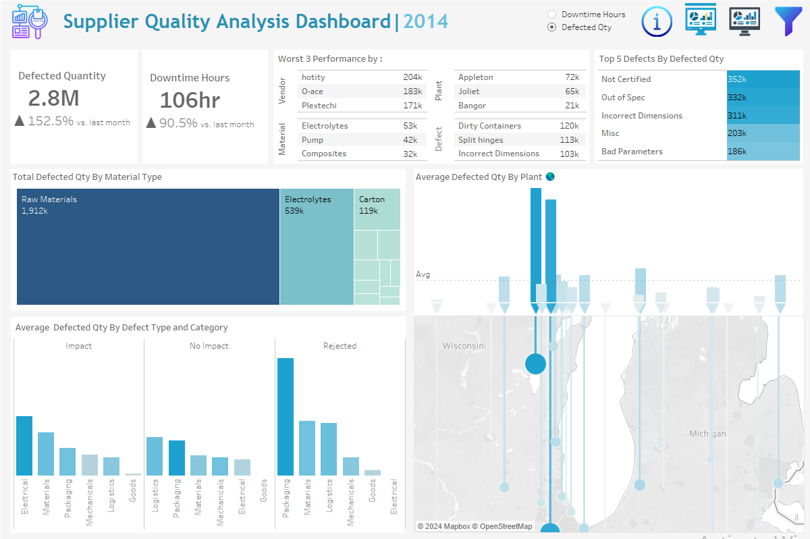

What the dashboard file says about the page in this screenshot:
{"tool":"tableau","page":{"name":"Dashboard 2 (3)","canvas":[1200,800],"ordinal":1},"visuals":[{"type":"image","param":"Image/data-analysis_3052407.png","box":[0,4,86,54]},{"type":"text","box":[86,4,714,54]},{"type":"parameter","param":"[Parameters].[Parameter 5]","box":[800,4,400,54]},{"type":"dashboard-object","box":[940,4,65,54]},{"type":"dashboard-object","box":[1005,4,65,54]},{"type":"dashboard-object","box":[1070,4,65,54]},{"type":"blank","box":[1079,4,46,4]},{"type":"dashboard-object","box":[1135,4,65,54]},{"type":"blank","box":[943,10,246,51]},{"type":"blank","box":[0,58,1200,156]},{"type":"text","box":[943,61,246,36]},{"type":"text","box":[15,73,381,26]},{"type":"text","box":[404,73,392,26]},{"type":"text","box":[804,73,385,26]},{"type":"parameter","param":"[Parameters].[Parameter 1]","box":[943,97,246,52]},{"type":"worksheet","title":"Vendors Downtime Groups (2)","mark":"Automatic","rows":["Vendor"],"cols":["Calculation_1127307283099979777","Calculation_1127307283099979777"],"box":[15,99,381,143]},{"type":"worksheet","title":"Defect Type share","mark":"Pie","box":[404,99,392,143]},{"type":"worksheet","title":"worst 5 category downtime","mark":"Automatic","rows":["Sub Category"],"cols":["Calculation_1127307283099979777"],"box":[804,99,385,128]},{"type":"filter","title":"Defect Type share","param":"[federated.1yez3no1clppl218mfue11y89chz].[mn:dDate:ok]","box":[943,149,246,52]},{"type":"parameter","param":"[Parameters].[Parameter 6]","box":[943,201,246,52]},{"type":"text","box":[0,214,1200,427]},{"type":"text","box":[15,252,580,18]},{"type":"text","box":[606,252,581,18]},{"type":"blank","box":[943,253,246,32]},{"type":"worksheet","title":"defected qty trend (2)","mark":"Text","box":[15,270,580,32]},{"type":"worksheet","title":"Sheet 21","mark":"Circle","box":[606,270,581,187]},{"type":"text","box":[943,285,246,29]},{"type":"worksheet","title":"defected qty trend","mark":"Automatic","rows":["Calculation_807270300544372736"],"cols":["Calculation_707065143283163139"],"box":[15,302,580,157]},{"type":"filter","title":"defected qty trend","param":"[federated.1yez3no1clppl218mfue11y89chz].[none:Region:nk]","box":[943,314,246,52]},{"type":"filter","title":"defected qty trend","param":"[federated.1yez3no1clppl218mfue11y89chz].[none:Plant:nk]","box":[943,366,246,52]},{"type":"blank","box":[943,418,246,34]},{"type":"text","box":[943,452,246,29]},{"type":"text","box":[19,469,573,26]},{"type":"text","box":[608,471,577,26]},{"type":"filter","title":"defected qty trend","param":"[federated.1yez3no1clppl218mfue11y89chz].[none:Material Type:nk]","box":[943,481,246,52]},{"type":"worksheet","title":"Sankey Diagram","box":[19,495,573,290]},{"type":"worksheet","title":"Jitter plot","mark":"Circle","rows":["Calculation_1127307283099979777"],"cols":["Sub Category","Calculation_329044314083266561"],"box":[608,497,577,288]},{"type":"filter","title":"defected qty trend","param":"[federated.1yez3no1clppl218mfue11y89chz].[none:Sub Category:nk]","box":[943,533,246,52]},{"type":"blank","box":[943,585,246,32]},{"type":"text","box":[943,617,246,29]},{"type":"filter","title":"defected qty trend","param":"[federated.1yez3no1clppl218mfue11y89chz].[none:Defect Type:nk]","box":[943,646,246,52]},{"type":"filter","title":"defected qty trend","param":"[federated.1yez3no1clppl218mfue11y89chz].[none:Defect:nk]","box":[943,698,246,52]}]}

Visuals, with their boxes in screenshot pixels (x1, y1, x2, y2), scaled from the page's 1200x800 canvas onto the 810x539 screenshot:
image: 0, 3, 58, 39
text: 58, 3, 540, 39
parameter: 540, 3, 809, 39
dashboard-object: 634, 3, 678, 39
dashboard-object: 678, 3, 722, 39
dashboard-object: 722, 3, 766, 39
blank: 728, 3, 759, 5
dashboard-object: 766, 3, 809, 39
blank: 637, 7, 803, 41
blank: 0, 39, 809, 144
text: 637, 41, 803, 65
text: 10, 49, 267, 67
text: 273, 49, 537, 67
text: 543, 49, 803, 67
parameter: 637, 65, 803, 100
"Vendors Downtime Groups (2)" worksheet: 10, 67, 267, 163
"Defect Type share" worksheet (Pie marks): 273, 67, 537, 163
"worst 5 category downtime" worksheet: 543, 67, 803, 153
"Defect Type share" filter: 637, 100, 803, 135
parameter: 637, 135, 803, 170
text: 0, 144, 809, 432
text: 10, 170, 402, 182
text: 409, 170, 801, 182
blank: 637, 170, 803, 192
"defected qty trend (2)" worksheet (Text marks): 10, 182, 402, 203
"Sheet 21" worksheet (Circle marks): 409, 182, 801, 308
text: 637, 192, 803, 212
"defected qty trend" worksheet: 10, 203, 402, 309
"defected qty trend" filter: 637, 212, 803, 247
"defected qty trend" filter: 637, 247, 803, 282
blank: 637, 282, 803, 305
text: 637, 305, 803, 324
text: 13, 316, 400, 334
text: 410, 317, 800, 335
"defected qty trend" filter: 637, 324, 803, 359
"Sankey Diagram" worksheet: 13, 334, 400, 529
"Jitter plot" worksheet (Circle marks): 410, 335, 800, 529
"defected qty trend" filter: 637, 359, 803, 394
blank: 637, 394, 803, 416
text: 637, 416, 803, 435
"defected qty trend" filter: 637, 435, 803, 470
"defected qty trend" filter: 637, 470, 803, 505
